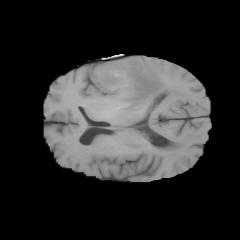glioma: (90, 63, 171, 109)
